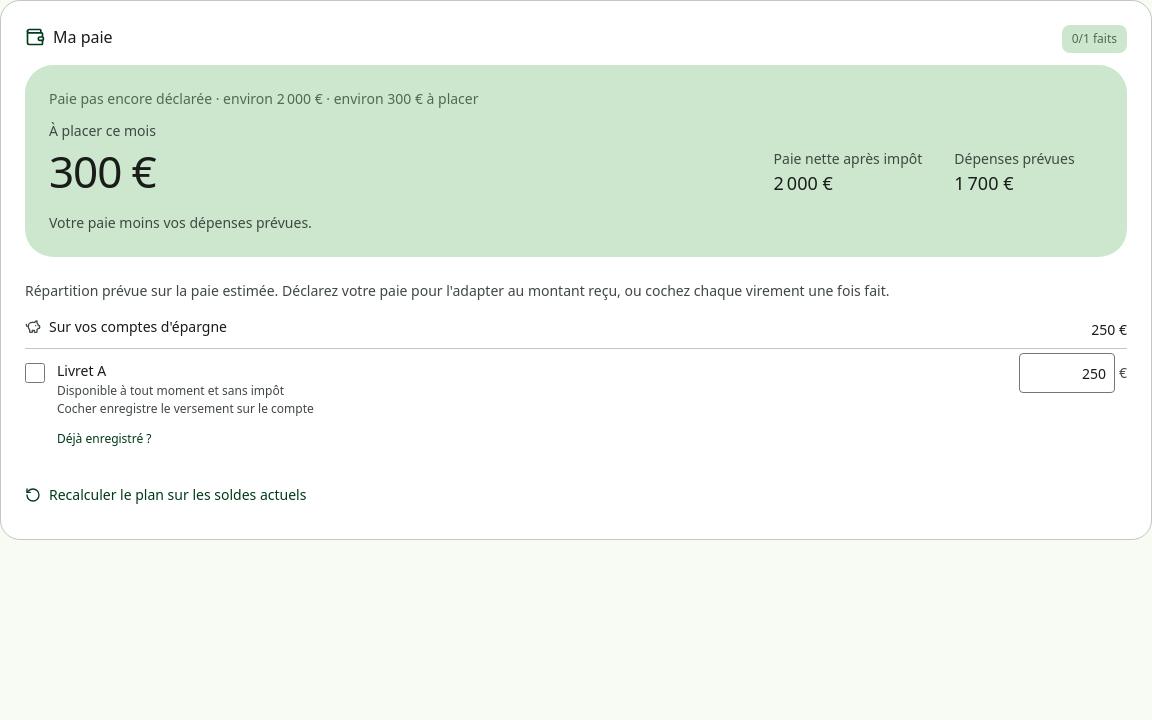
Test: PayChecklist › plan figé sans virement coché : « Recalculer le plan » le libère
Expected: the field named "Montant réel de Livret A" holds "250", [1019, 353, 1115, 393]
Click the button "Recalculer le plan sur les soldes actuels" at (166, 495), box [13, 475, 318, 515]
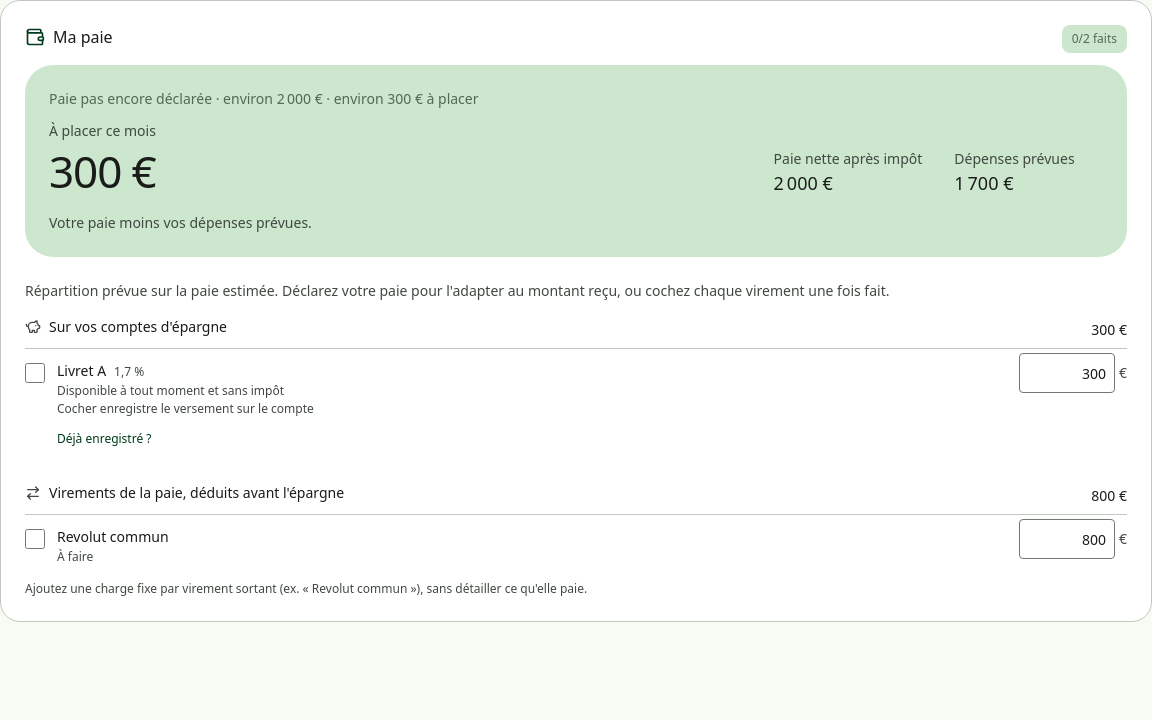
Expected: the field named "Montant réel de Livret A" holds "300", [1019, 353, 1115, 393]
